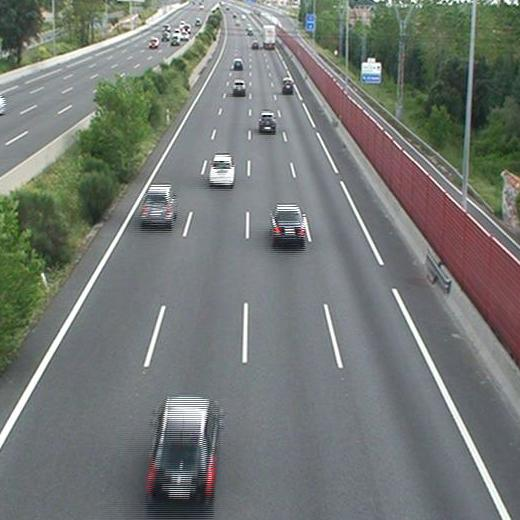car: (147, 397, 216, 498), (141, 185, 176, 224), (271, 205, 304, 241), (209, 156, 234, 184), (258, 113, 276, 132), (232, 80, 245, 95), (282, 79, 293, 92), (233, 59, 242, 69), (251, 41, 259, 50)
truck: (263, 25, 275, 48)
